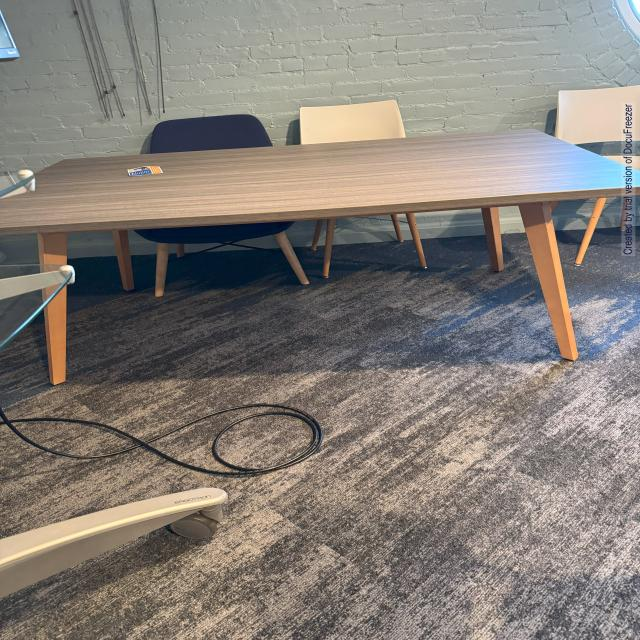Table: (6, 120, 612, 385)
